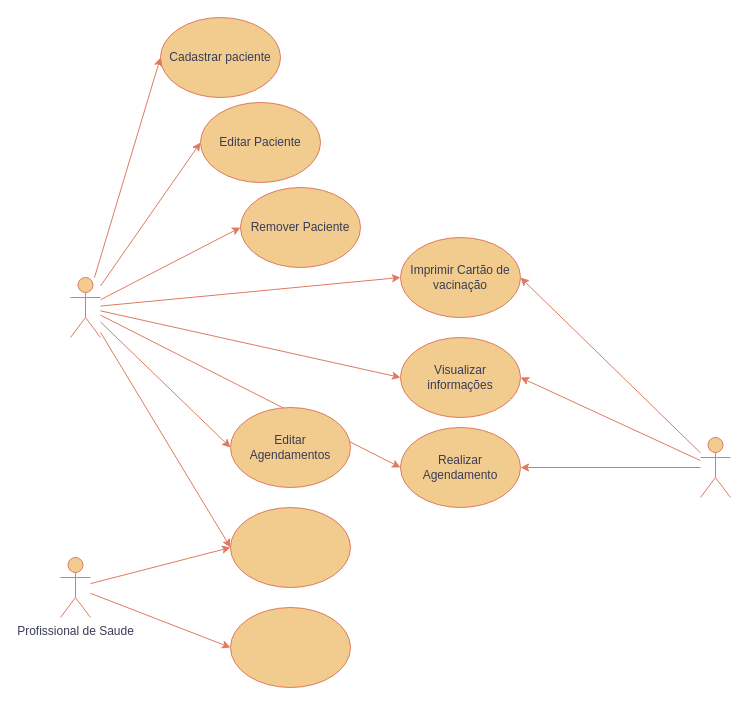
Some shapes in this 756 by 705 pixel diagram are drawn without their labels. The centre of each missing label's shape, as x and y in pixels:
"Paciente" goes at [715,467].
"Registra doses" goes at [290,647].
"Secretaria" goes at [85,307].
"Visualizar Agendamentos" goes at [290,547].
